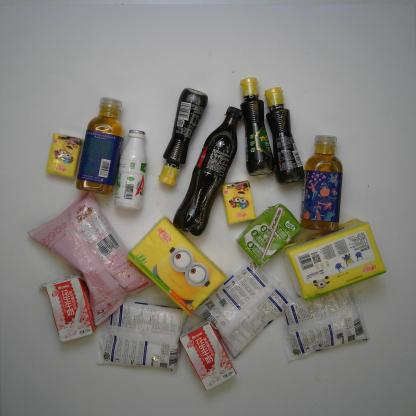Drink: (172, 104, 244, 238), (74, 96, 126, 197), (298, 133, 344, 234)
Milk: (234, 201, 302, 268), (178, 317, 238, 392), (38, 272, 98, 342), (113, 127, 147, 211)
Puffed Food: (26, 190, 156, 327)
Seasoner: (192, 256, 295, 361), (281, 284, 372, 364), (96, 296, 188, 373), (157, 86, 209, 189), (263, 84, 306, 186), (238, 75, 276, 177)
Tissue: (126, 214, 230, 317), (279, 216, 388, 301), (44, 132, 85, 180), (221, 179, 257, 226)
